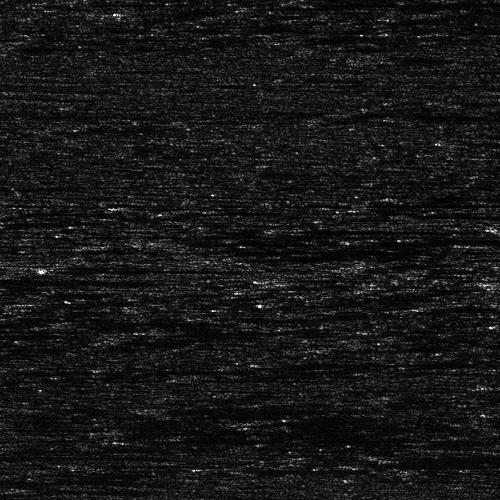rock: (57, 315, 120, 324), (105, 402, 158, 411), (372, 449, 413, 460), (46, 264, 109, 271), (155, 239, 218, 246), (296, 0, 337, 7), (279, 225, 332, 230), (0, 362, 7, 375)
shadow: (89, 315, 313, 324), (132, 402, 351, 411), (0, 272, 147, 281), (317, 0, 500, 7), (393, 449, 500, 460), (187, 239, 346, 246), (78, 264, 231, 271), (0, 328, 302, 331), (0, 362, 68, 375), (306, 225, 468, 230), (0, 453, 106, 460), (0, 186, 61, 191)
